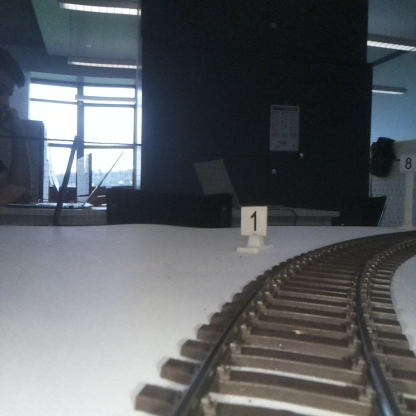white-stop-1: (241, 207, 266, 252)
